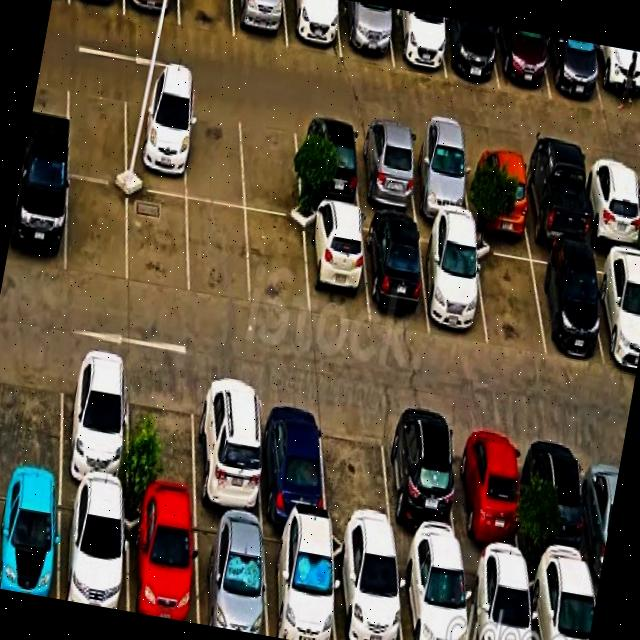empty: (321, 400, 393, 543), (129, 362, 196, 509), (0, 340, 62, 481), (474, 237, 545, 355), (240, 105, 301, 218), (66, 176, 128, 283), (187, 199, 250, 304), (246, 212, 309, 315), (128, 188, 188, 296), (67, 73, 125, 184), (186, 96, 244, 207), (179, 0, 234, 37)
occupied: (383, 410, 461, 555), (452, 420, 522, 566), (60, 349, 127, 495), (196, 375, 262, 520), (259, 387, 326, 529), (527, 431, 591, 575), (194, 511, 267, 636), (126, 499, 197, 623), (59, 486, 127, 611), (263, 524, 335, 640), (418, 225, 487, 344), (530, 246, 602, 359), (362, 215, 429, 330), (332, 534, 402, 640), (305, 206, 368, 323), (0, 477, 60, 598), (5, 162, 68, 273), (125, 85, 186, 197), (396, 549, 468, 640), (521, 152, 588, 248), (465, 143, 529, 236), (296, 116, 360, 209), (407, 133, 471, 224), (462, 557, 532, 640), (355, 124, 417, 216), (591, 251, 640, 367), (582, 441, 622, 576), (582, 161, 640, 251), (527, 567, 593, 640), (544, 35, 602, 109), (439, 16, 498, 88), (387, 7, 445, 77), (494, 26, 550, 98), (591, 43, 640, 118), (338, 0, 393, 65), (284, 0, 341, 57), (232, 0, 287, 48), (124, 0, 179, 25)
